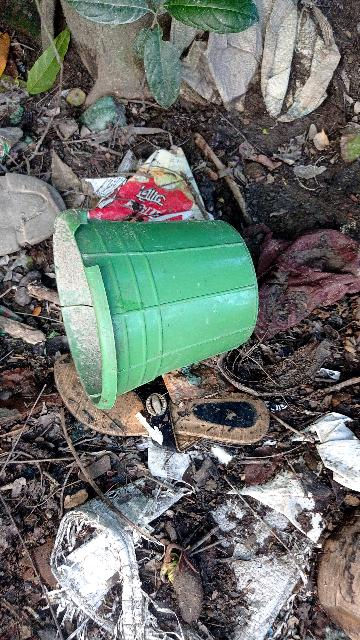hardplastic: (53, 168, 274, 414)
